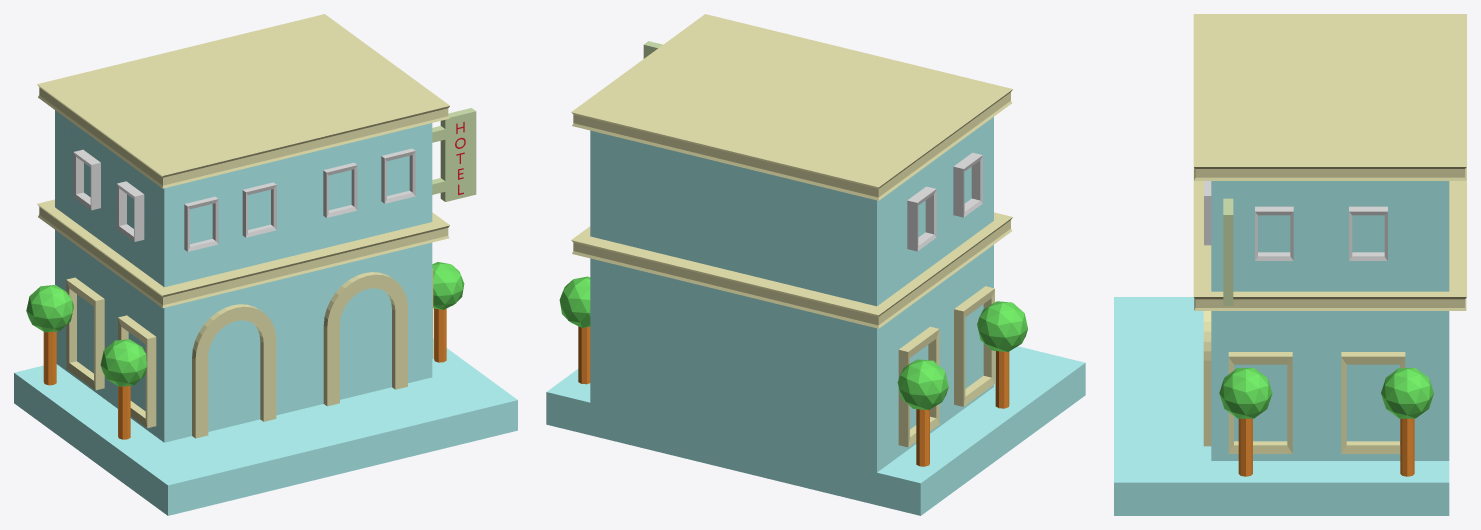
File: hotal.fbx
The picture shows the model from 3 angles, left to right: view 1: azimuth 30°, elevation 25°; view 2: azimuth 150°, elevation 25°; view 3: azimuth 270°, elevation 25°; orthographic projection. The views are drawn at different scales.
Visible parts, largest first — view 1: building, road, tree.001, tree, windows, Cube; view 2: building, tree, tree.001, windows, road; view 3: building, road, tree, tree.001, windows, Cube.
Part boxes in pixels (x1=…): building: x1=14, y1=14, x2=500, y2=503; road: x1=151, y1=388, x2=517, y2=515; tree.001: x1=66, y1=269, x2=433, y2=438; tree: x1=26, y1=262, x2=464, y2=439; windows: x1=73, y1=148, x2=415, y2=251; Cube: x1=432, y1=108, x2=476, y2=201; building: x1=546, y1=14, x2=1067, y2=515; tree: x1=559, y1=276, x2=1027, y2=466; tree.001: x1=898, y1=286, x2=994, y2=447; windows: x1=907, y1=152, x2=982, y2=251; road: x1=995, y1=346, x2=1085, y2=407; building: x1=1150, y1=14, x2=1466, y2=515; road: x1=1114, y1=297, x2=1150, y2=515; tree: x1=1219, y1=368, x2=1433, y2=476; tree.001: x1=1203, y1=311, x2=1405, y2=453; windows: x1=1204, y1=181, x2=1387, y2=260; Cube: x1=1223, y1=198, x2=1233, y2=305.
Bounding box in the file's own units: 620 × 500 × 481.
